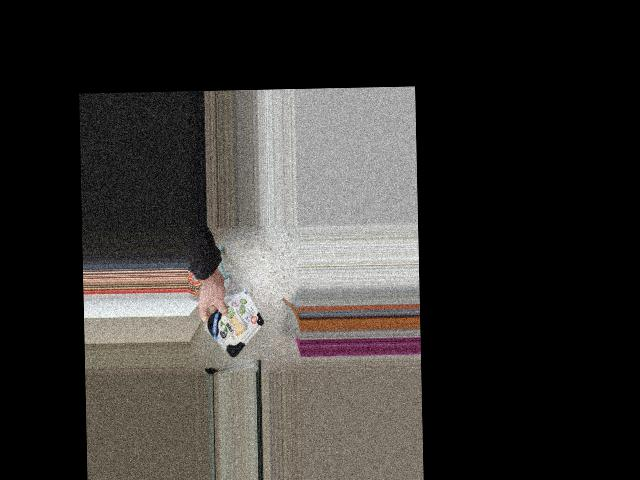cheese: (190, 299, 268, 349)
